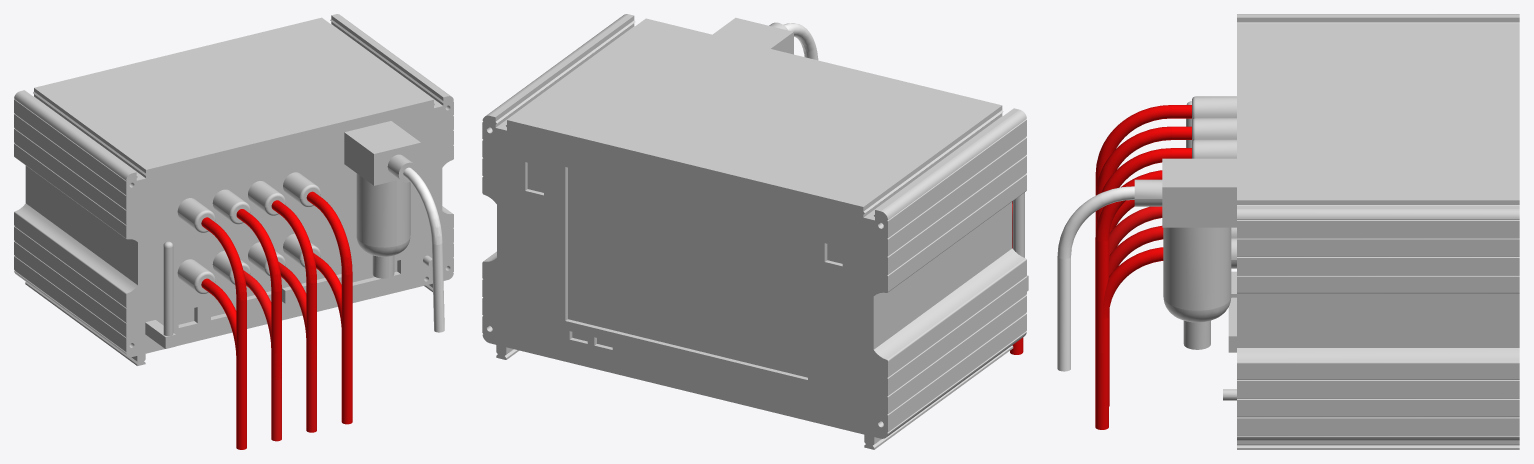
3 renders of one model, left to right at view 1: azimuth 30°, elevation 25°; view 2: azimuth 150°, elevation 25°; view 3: azimuth 270°, elevation 25°, orthographic. The views are drawn at different scales.
Parts seen in each view (by area): view 1: KA200_3, 8mm_hortum_7, 8mm_hortum, 8mm_hortum_3, 8mm_hortum_5, 8mm_hortum_17, 8mm_hortum_9, 8mm_hortum_15, 8mm_hortum_13, 8mm_hortum_11; view 2: KA200_3, 8mm_hortum_17; view 3: KA200_3, 8mm_hortum_17, 8mm_hortum_15, 8mm_hortum_7, 8mm_hortum, 8mm_hortum_3, 8mm_hortum_5, 8mm_hortum_13, 8mm_hortum_11.
Part boxes in pixels (x1,y1,x2,y2): KA200_3: (14, 14, 453, 365); 8mm_hortum_7: (306, 191, 352, 362); 8mm_hortum: (201, 217, 246, 388); 8mm_hortum_3: (236, 209, 281, 379); 8mm_hortum_5: (271, 200, 316, 371); 8mm_hortum_17: (403, 167, 444, 332); 8mm_hortum_9: (201, 278, 246, 449); 8mm_hortum_15: (313, 253, 352, 424); 8mm_hortum_13: (278, 261, 316, 432); 8mm_hortum_11: (243, 270, 281, 441); KA200_3: (482, 14, 1028, 449); 8mm_hortum_17: (783, 23, 818, 60); KA200_3: (1134, 14, 1519, 449); 8mm_hortum_17: (1057, 186, 1134, 371); 8mm_hortum_15: (1095, 247, 1163, 429); 8mm_hortum_7: (1095, 170, 1162, 352); 8mm_hortum: (1095, 105, 1191, 232); 8mm_hortum_3: (1096, 126, 1191, 216); 8mm_hortum_5: (1096, 148, 1191, 329); 8mm_hortum_13: (1109, 226, 1163, 406); 8mm_hortum_11: (1109, 206, 1162, 254).
Bounding box in the file's own units: 280 × 203 × 272.
